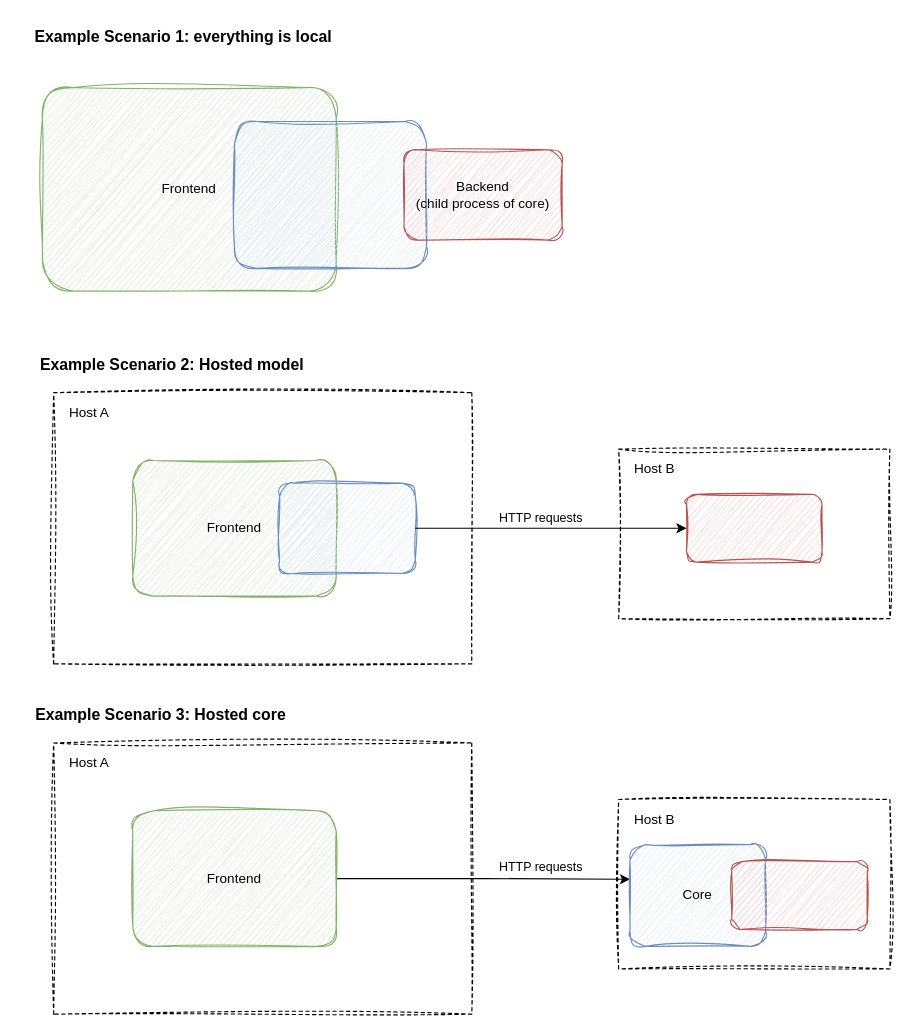
This 910x1034 diagram has some shape labels left out. The centre of each missing label's shape, as x and y in pixels:
"Backend" belongs at (753,527).
"Backend (child process)" belongs at (799,894).
"Core (child process of frontend)" belongs at (330,194).
"Core (child process)" belongs at (347,527).
